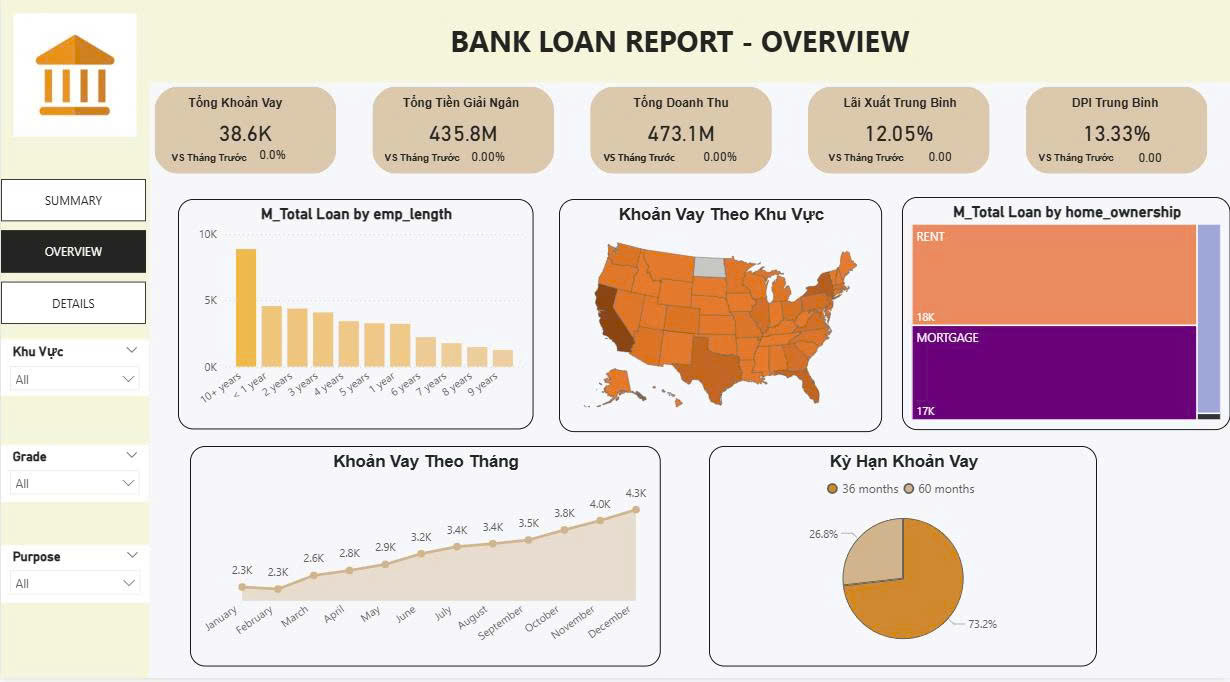

This screenshot's page, from the dashboard's own definition file:
{"tool":"powerbi","page":{"name":"OVERVIEW","canvas":[1366,756],"ordinal":1},"visuals":[{"type":"textbox","box":[8.9,16.7,351.1,53.3],"z":0},{"type":"shape","box":[0,0,1366.2,93.8],"z":1000},{"type":"shape","box":[0,85,165,670],"z":2000},{"type":"cardVisual","fields":{"Data":["CountNonNull(financial_loan_cleaned_dates.id)","financial_loan_cleaned_dates.M_Total_Amount","financial_loan_cleaned_dates.M_Payment","financial_loan_cleaned_dates.M_Avg_Rate","financial_loan_cleaned_dates.M_AVG_DPI"]},"box":[165,93.8,1180,107.5],"z":3000},{"type":"textbox","box":[184.4,162.2,135.6,30],"z":4000},{"type":"textbox","box":[421.1,162.2,135.6,30],"z":5000},{"type":"textbox","box":[664.4,162.2,135.6,30],"z":6000},{"type":"textbox","box":[412.5,101.9,198.1,26.9],"z":7000},{"type":"textbox","box":[656.4,101.8,198.2,27.3],"z":8000},{"type":"textbox","box":[900,101.8,198.2,27.3],"z":9000},{"type":"textbox","box":[1139.1,101.8,198.2,27.3],"z":10000},{"type":"card","fields":{"Values":["financial_loan_cleaned_dates.M_% total Loan_change"]},"box":[269.6,159.2,63.7,32.8],"z":11000},{"type":"card","fields":{"Values":["financial_loan_cleaned_dates.M_%chang_Total_amout"]},"box":[511.4,162.2,60.7,29.8],"z":12000},{"type":"textbox","box":[421.2,20,666.2,55],"z":13000},{"type":"card","fields":{"Values":["financial_loan_cleaned_dates.M_%Change Profit"]},"box":[769.1,162.2,60.7,29.8],"z":14000},{"type":"card","fields":{"Values":["financial_loan_cleaned_dates.M_%Change Rate"]},"box":[1012.8,162.2,60.7,29.8],"z":15000},{"type":"textbox","box":[914.3,162.2,98.5,29.8],"z":16000},{"type":"textbox","box":[1148.1,162.2,98.5,29.8],"z":17000},{"type":"card","fields":{"Values":["financial_loan_cleaned_dates.M_%Change Rate"]},"box":[1246.6,164.2,60.7,25.9],"z":18000},{"type":"slicer","fields":{"Values":["financial_loan_cleaned_dates.address_state"]},"box":[0,378.6,164.3,62.9],"z":19000},{"type":"slicer","fields":{"Values":["financial_loan_cleaned_dates.grade"]},"box":[0,497.1,164.3,62.9],"z":20000},{"type":"slicer","fields":{"Values":["financial_loan_cleaned_dates.purpose"]},"box":[0,607.5,165,63.8],"z":21000},{"type":"textbox","box":[161.2,102.5,198.8,31.2],"z":22000},{"type":"pieChart","title":"Kỳ Hạn Khoản Vay","fields":{"Category":["financial_loan_cleaned_dates.term"],"Y":["financial_loan_cleaned_dates.M_Total Loan"]},"box":[786.2,497.5,431.2,245],"z":23000},{"type":"shapeMap","title":"Khoản Vay Theo Khu Vực","fields":{"Category":["financial_loan_cleaned_dates.address_state"]},"box":[620,223.8,358.8,258.8],"z":24000},{"type":"treemap","fields":{"Group":["financial_loan_cleaned_dates.home_ownership"],"Values":["financial_loan_cleaned_dates.M_Total Loan"]},"box":[1001.2,221.2,365,258.8],"z":25000},{"type":"columnChart","fields":{"Category":["financial_loan_cleaned_dates.emp_length"],"Y":["financial_loan_cleaned_dates.M_Total Loan"]},"box":[196.2,223.8,395,256.2],"z":26000},{"type":"areaChart","title":"Khoản Vay Theo Tháng","fields":{"Category":["Date_Table.C_Month"],"Y":["financial_loan_cleaned_dates.M_Total Loan"]},"box":[210,497.5,522.5,245],"z":27000},{"type":"pageNavigator","box":[0,201.4,161.4,162.9],"z":28000},{"type":"image","box":[8.6,11.4,147.1,148.6],"z":28001}]}

Visuals, with their boxes on the page's 1366x756 design canvas (x1, y1, x2, y2). These are canvas units, not pixel positions in the 1230x682 screenshot, which may show the page scaled, cropped or inside an application window:
textbox: (9, 17, 360, 70)
shape: (0, 0, 1366, 94)
shape: (0, 85, 165, 755)
cardVisual - CountNonNull(financial_loan_cleaned_dates.id) x financial_loan_cleaned_dates.M_Total_Amount: (165, 94, 1345, 201)
textbox: (184, 162, 320, 192)
textbox: (421, 162, 557, 192)
textbox: (664, 162, 800, 192)
textbox: (412, 102, 611, 129)
textbox: (656, 102, 855, 129)
textbox: (900, 102, 1098, 129)
textbox: (1139, 102, 1337, 129)
card - financial_loan_cleaned_dates.M_% total Loan_change: (270, 159, 333, 192)
card - financial_loan_cleaned_dates.M_%chang_Total_amout: (511, 162, 572, 192)
textbox: (421, 20, 1087, 75)
card - financial_loan_cleaned_dates.M_%Change Profit: (769, 162, 830, 192)
card - financial_loan_cleaned_dates.M_%Change Rate: (1013, 162, 1074, 192)
textbox: (914, 162, 1013, 192)
textbox: (1148, 162, 1247, 192)
card - financial_loan_cleaned_dates.M_%Change Rate: (1247, 164, 1307, 190)
slicer - financial_loan_cleaned_dates.address_state: (0, 379, 164, 442)
slicer - financial_loan_cleaned_dates.grade: (0, 497, 164, 560)
slicer - financial_loan_cleaned_dates.purpose: (0, 608, 165, 671)
textbox: (161, 102, 360, 134)
"Kỳ Hạn Khoản Vay" pieChart: (786, 498, 1217, 742)
"Khoản Vay Theo Khu Vực" shapeMap: (620, 224, 979, 483)
treemap - financial_loan_cleaned_dates.home_ownership x financial_loan_cleaned_dates.M_Total Loan: (1001, 221, 1366, 480)
columnChart - financial_loan_cleaned_dates.emp_length x financial_loan_cleaned_dates.M_Total Loan: (196, 224, 591, 480)
"Khoản Vay Theo Tháng" areaChart: (210, 498, 732, 742)
pageNavigator: (0, 201, 161, 364)
image: (9, 11, 156, 160)
